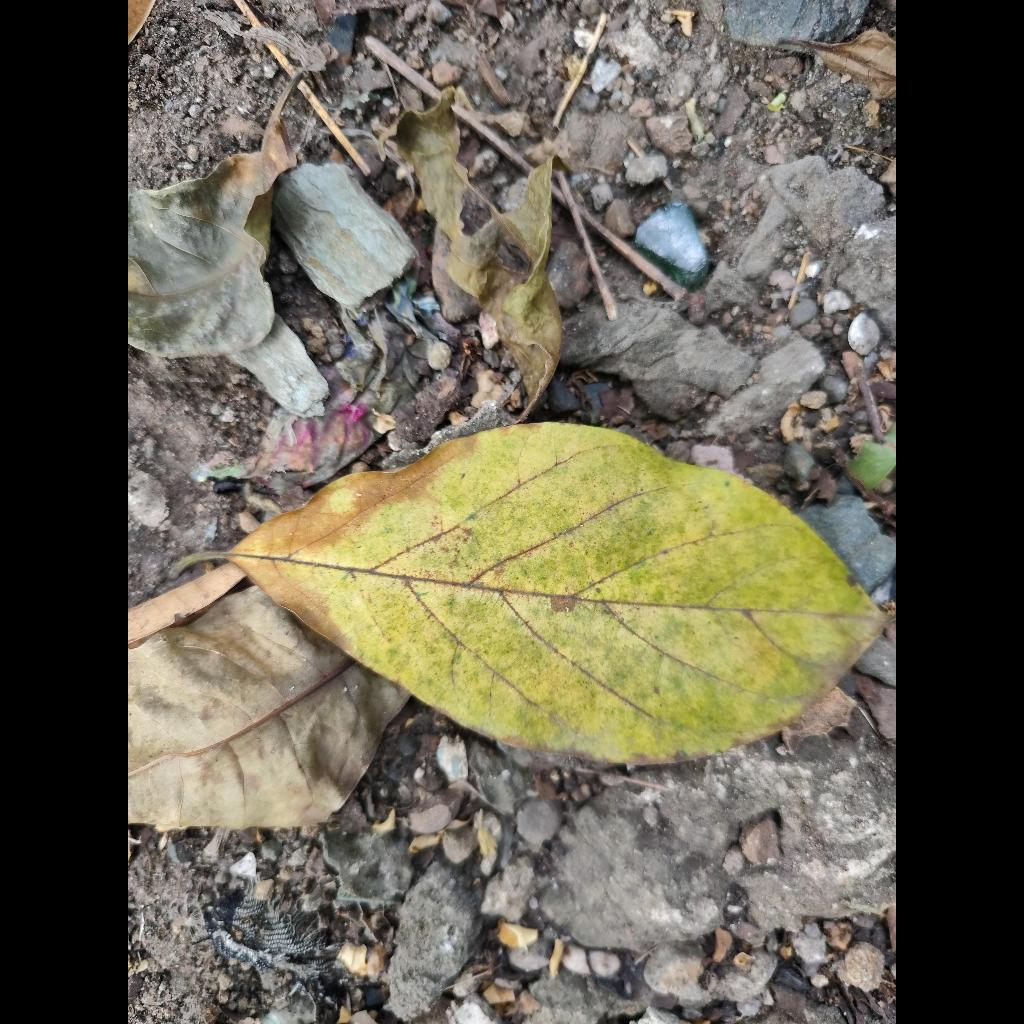deficiencia_nutricional: (231, 423, 881, 763)
